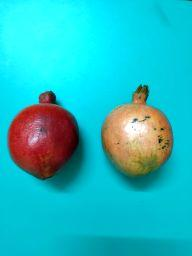pomegranate: (101, 84, 174, 179), (7, 91, 79, 180)
